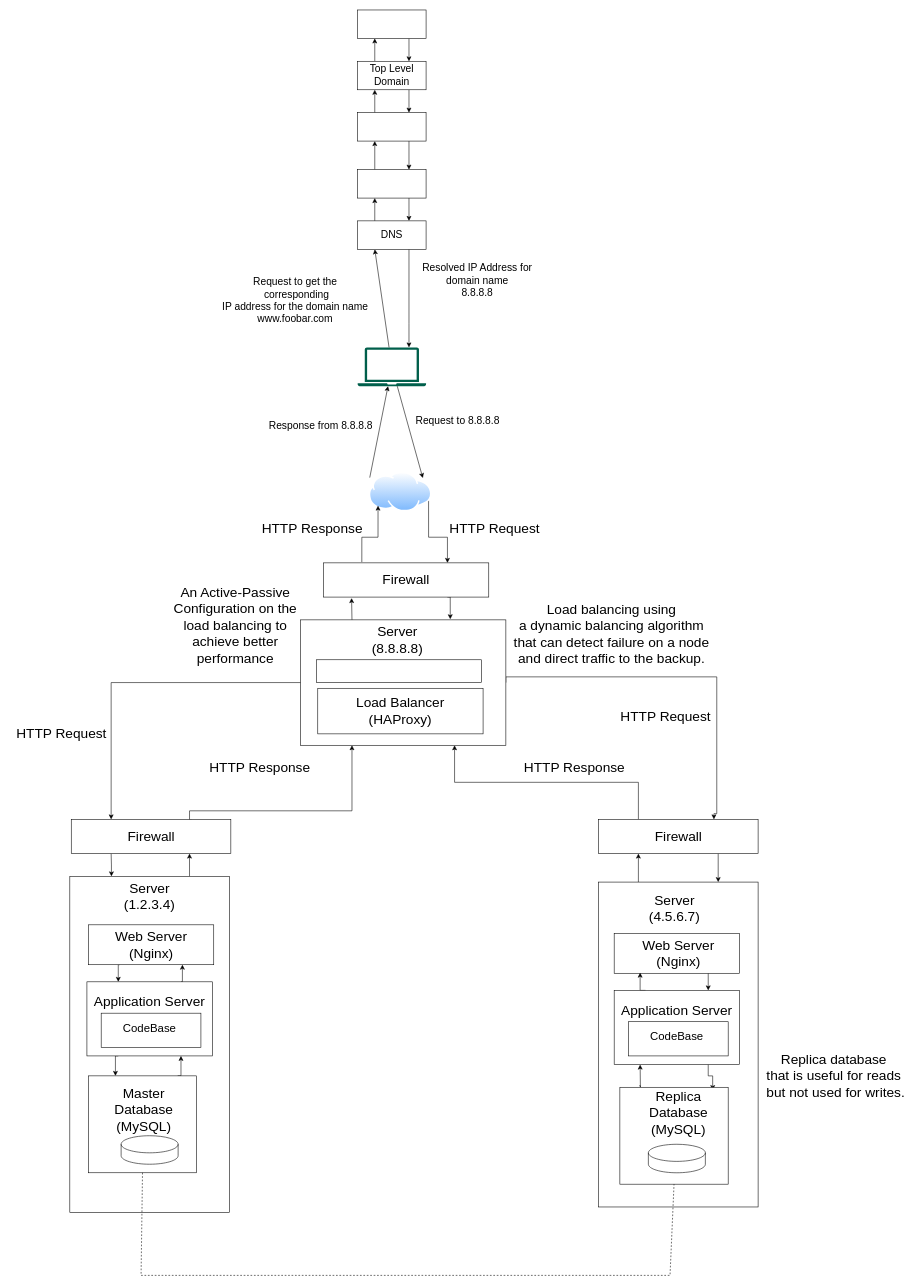
Some shapes in this 920 by 1286 pixel diagram are drawn without their labels. The box of each missing label's shape, as (x1, y1, x2, y2) in pixels:
Internet: (369, 472, 431, 511)
Name Server: (357, 9, 426, 38)
Resolver: (357, 169, 426, 198)
Root: (357, 112, 426, 141)
SSL Certificate: (316, 659, 482, 683)
